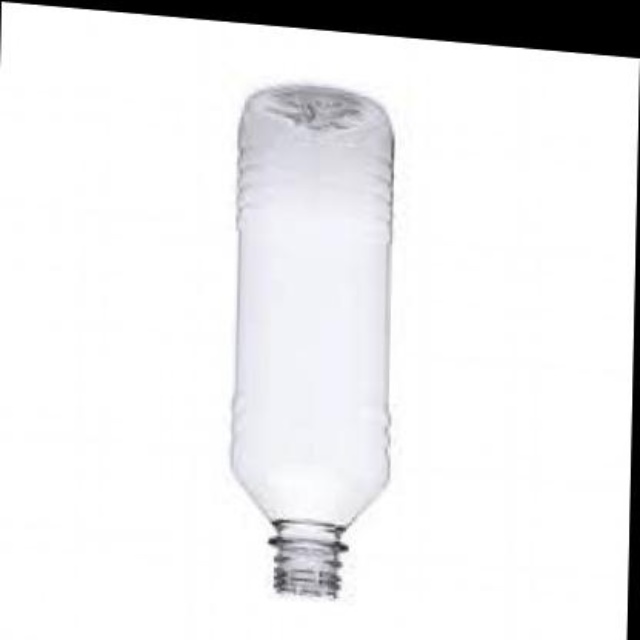trash: (232, 85, 392, 595)
